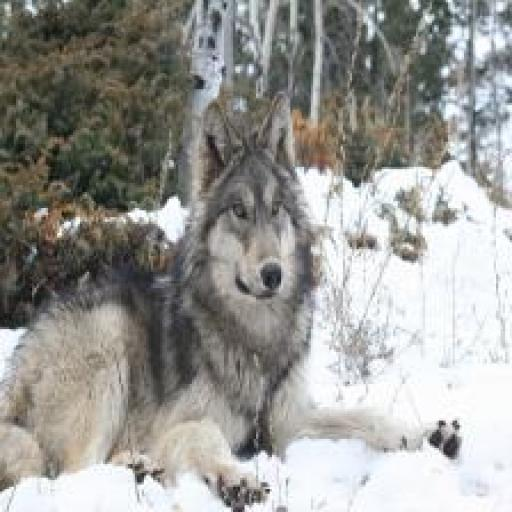wolf: (0, 91, 464, 512)
